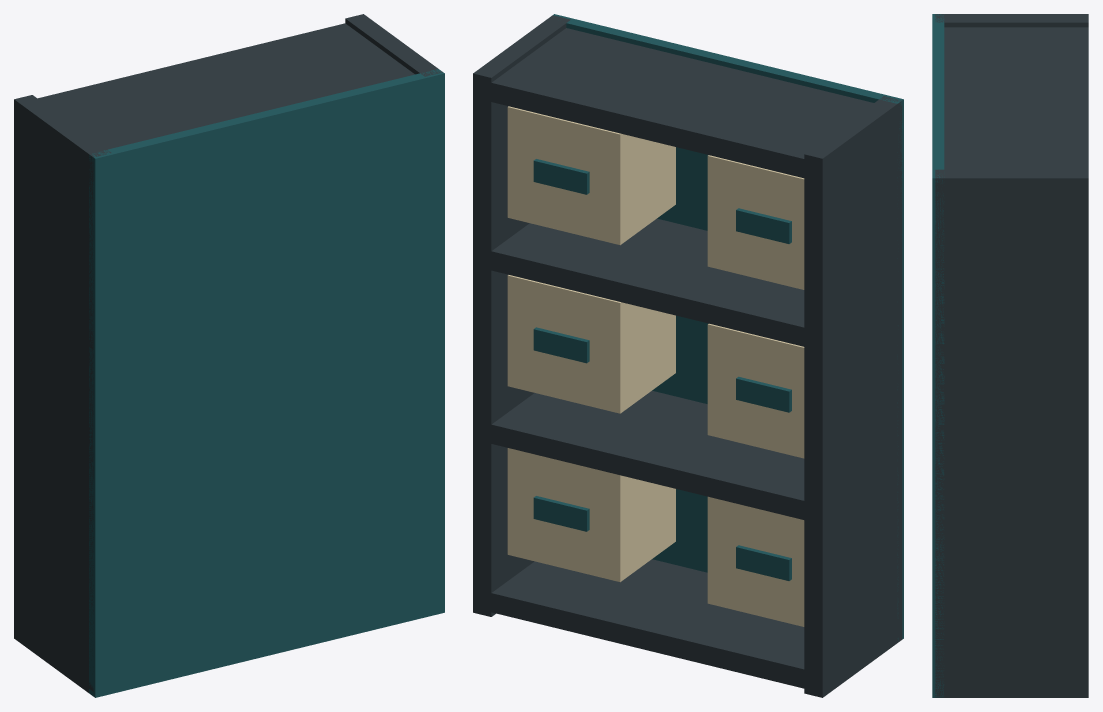
The model's file is VIC_E10_ARCHIVE_SHELF_Roblox.fbx.
3 views of the same model, side by side, from view 1: azimuth 30°, elevation 25°; view 2: azimuth 150°, elevation 25°; view 3: azimuth 270°, elevation 25° (orthographic). The views are drawn at different scales.
Visible parts, largest first — view 1: VIC_E10_ARCHIVE_SHELF__Teal, VIC_E10_ARCHIVE_SHELF__Charcoal; view 2: VIC_E10_ARCHIVE_SHELF__Charcoal, VIC_E10_ARCHIVE_SHELF__Paper, VIC_E10_ARCHIVE_SHELF__Teal; view 3: VIC_E10_ARCHIVE_SHELF__Charcoal, VIC_E10_ARCHIVE_SHELF__Teal.
Boxes of the visible parts, x1,y1,x2,y2 form: VIC_E10_ARCHIVE_SHELF__Teal: (89, 69, 444, 697); VIC_E10_ARCHIVE_SHELF__Charcoal: (14, 14, 442, 692); VIC_E10_ARCHIVE_SHELF__Charcoal: (473, 15, 902, 697); VIC_E10_ARCHIVE_SHELF__Paper: (507, 106, 804, 626); VIC_E10_ARCHIVE_SHELF__Teal: (533, 14, 903, 640); VIC_E10_ARCHIVE_SHELF__Charcoal: (935, 14, 1088, 697); VIC_E10_ARCHIVE_SHELF__Teal: (932, 14, 944, 697).
Size of the model in its own units: 3.8 by 5.6 by 1.53.
